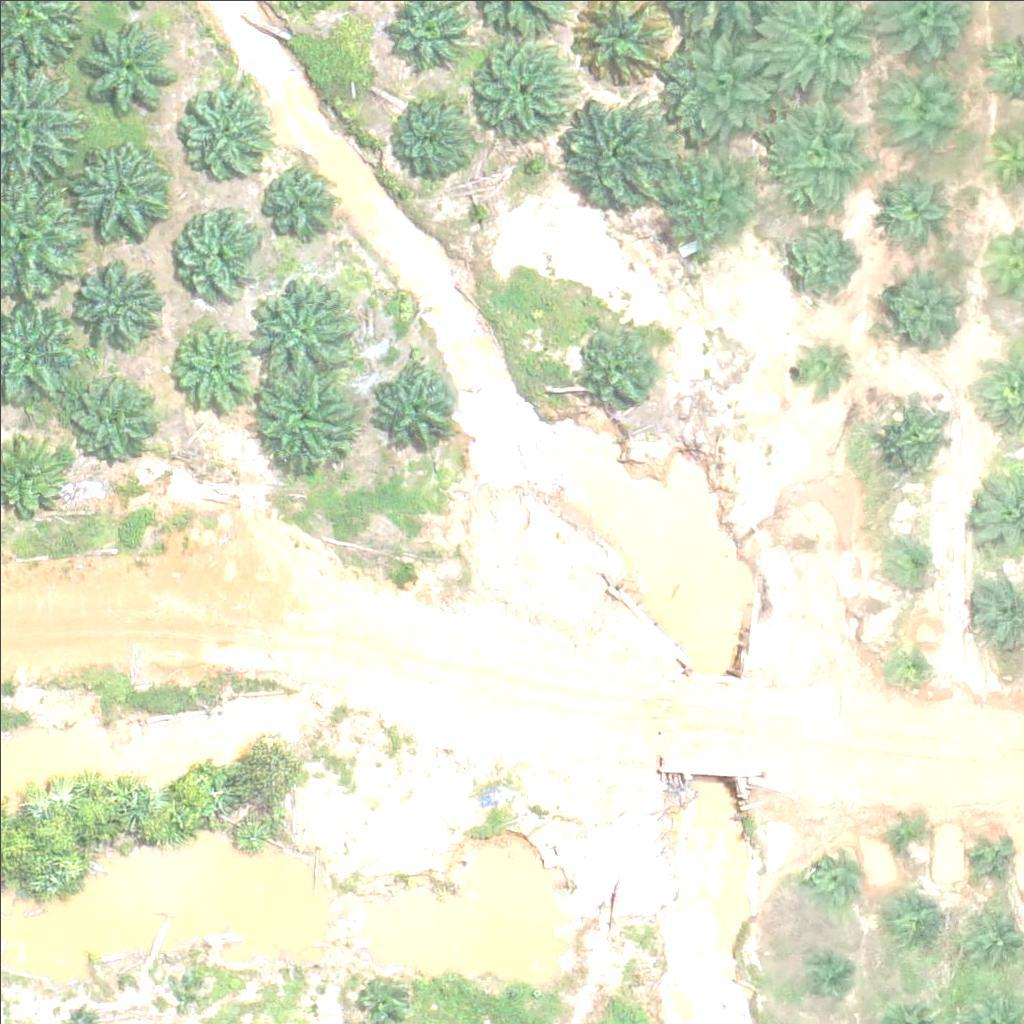Kelapa_Sawit: (554, 94, 679, 220), (665, 15, 790, 140), (653, 143, 765, 257), (464, 27, 576, 141), (763, 92, 875, 205), (77, 20, 177, 121), (250, 277, 350, 378), (254, 370, 354, 471), (876, 49, 976, 149), (72, 140, 172, 240), (874, 256, 962, 344), (63, 373, 151, 461), (170, 318, 258, 406), (173, 205, 261, 293), (181, 82, 269, 170), (371, 358, 459, 446), (871, 159, 958, 247), (573, 317, 660, 405), (254, 158, 341, 246), (70, 254, 157, 342), (385, 93, 472, 181), (879, 393, 954, 469), (777, 230, 852, 306), (878, 891, 941, 954), (785, 334, 847, 397), (964, 833, 1014, 884), (878, 812, 928, 863), (807, 847, 857, 897), (797, 952, 847, 1002), (885, 639, 935, 689), (889, 532, 939, 582), (355, 969, 405, 1019), (163, 979, 188, 1004)
